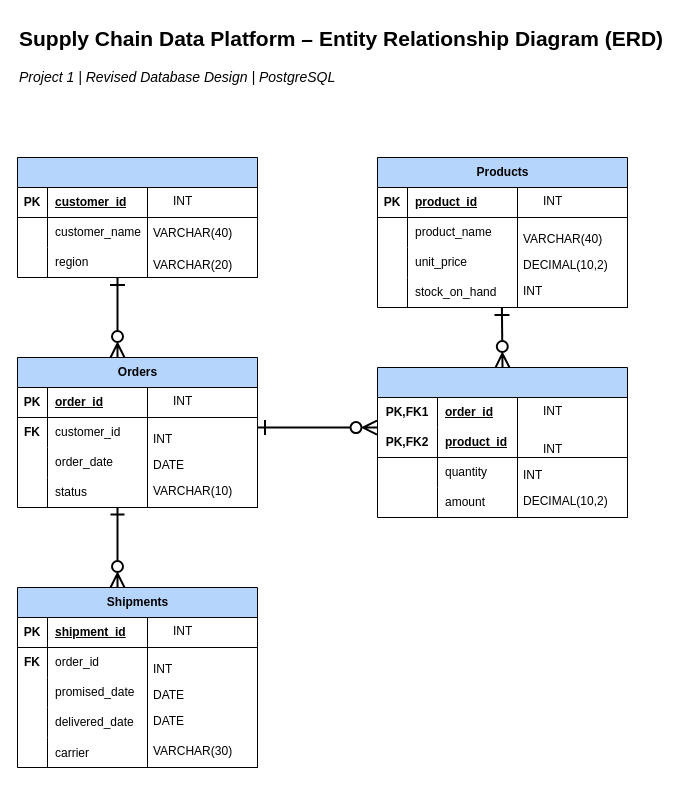
The diagram is 695 pixels wide and 787 high, and some of its shapes have lost their labels. The box of each missing label's shape, as (x1, y1, x2, y2) in pixels:
Customers: (16, 156, 258, 278)
Order_items: (376, 366, 628, 518)
